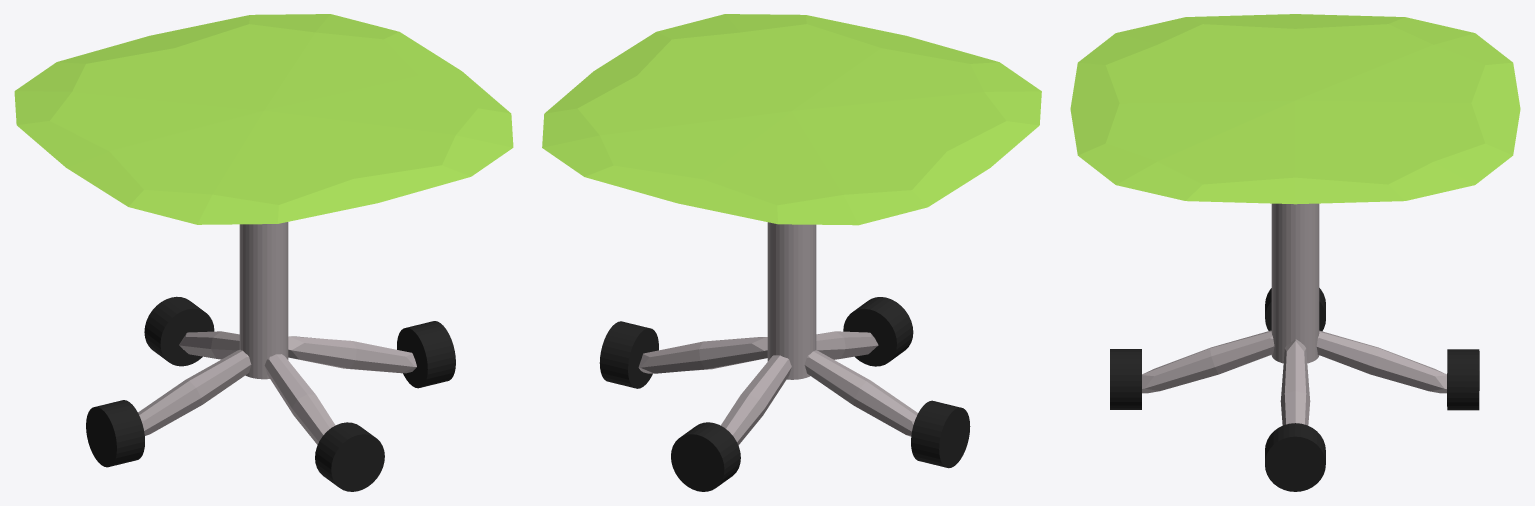
Rendered from Stuhl.fbx.
3 views of the same model, side by side, from view 1: azimuth 30°, elevation 25°; view 2: azimuth 150°, elevation 25°; view 3: azimuth 270°, elevation 25° (orthographic).
Visible parts, largest first — view 1: Sitzfläche; view 2: Sitzfläche; view 3: Sitzfläche.
Boxes of the visible parts, x1,y1,x2,y2 form: Sitzfläche: (14,14,513,491); Sitzfläche: (542,14,1041,491); Sitzfläche: (1070,14,1520,491).
Bounding box in the file's own units: 64.05 × 48.66 × 64.05.
